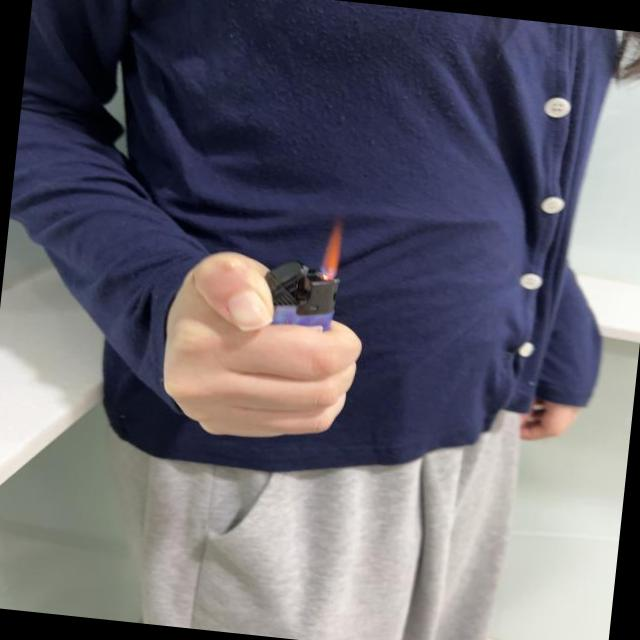Fire: (317, 219, 347, 279)
